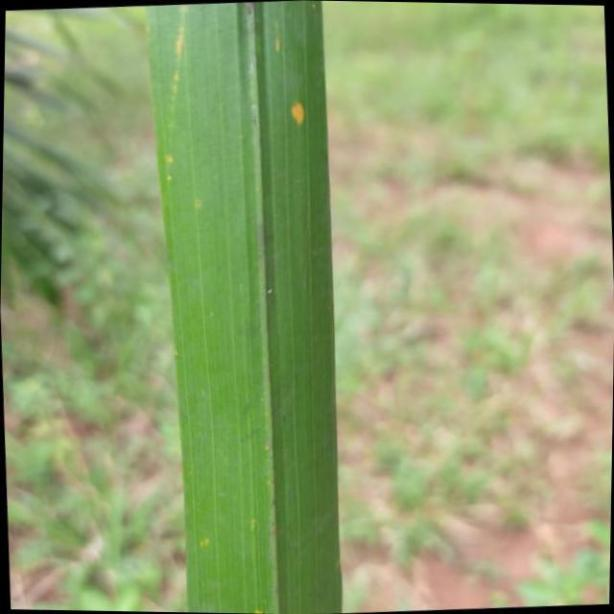Kalium: (139, 1, 343, 614)
